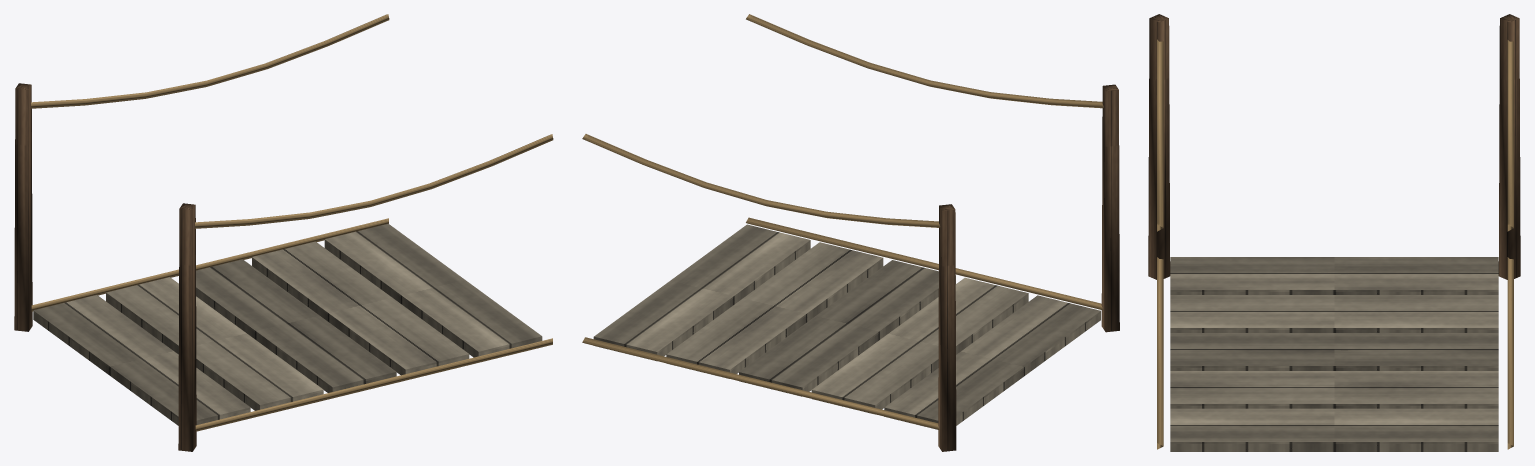
Rendered from Bridge_Rope_Deck_1_LOD1.gltf.
The picture shows the model from 3 angles, left to right: view 1: azimuth 30°, elevation 25°; view 2: azimuth 150°, elevation 25°; view 3: azimuth 270°, elevation 25°; orthographic projection. The views are drawn at different scales.
Parts seen in each view (by area): view 1: Bridge_Rope_Deck_1_LOD1; view 2: Bridge_Rope_Deck_1_LOD1; view 3: Bridge_Rope_Deck_1_LOD1.
Boxes of the visible parts, <box> form: Bridge_Rope_Deck_1_LOD1: <box>14,14,553,451</box>; Bridge_Rope_Deck_1_LOD1: <box>582,14,1119,451</box>; Bridge_Rope_Deck_1_LOD1: <box>1148,14,1520,451</box>.
Bounding box in the file's own units: 2.11 × 1.3 × 1.7.
Materials: 3 (3 with a texture image).
